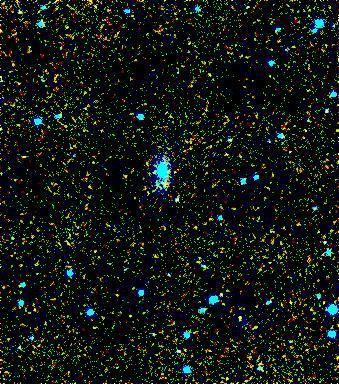star: (109, 161, 139, 191)
